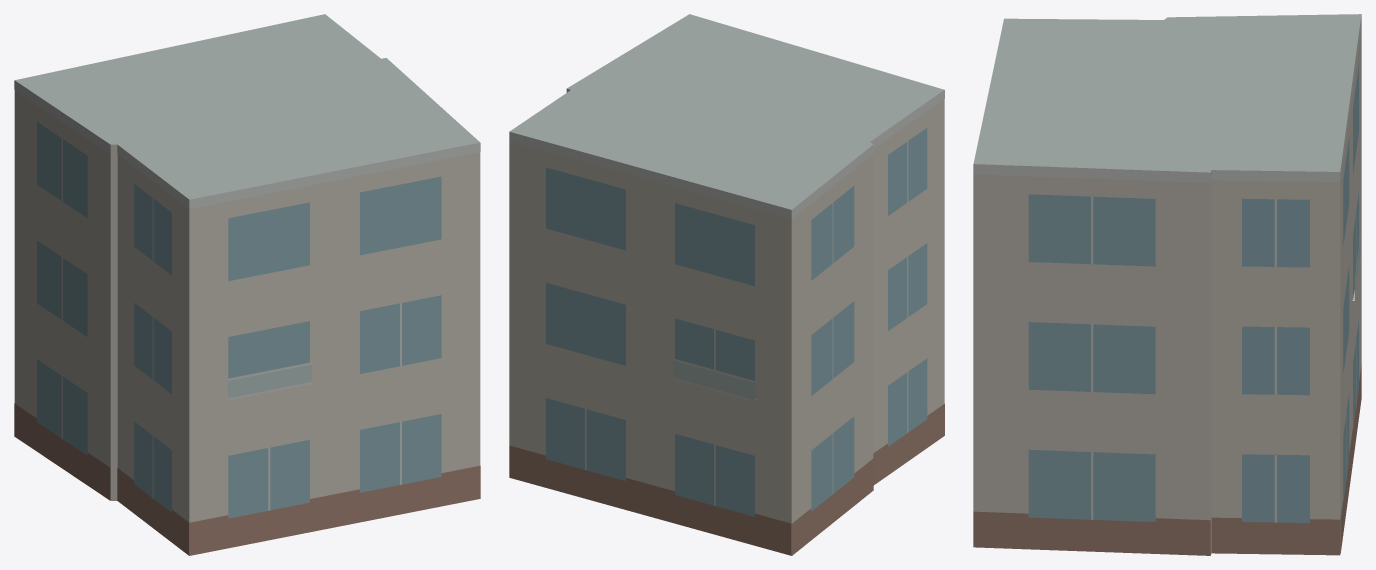
The model's file is survey-upis-32686181.glb.
The picture shows the model from 3 angles, left to right: view 1: azimuth 30°, elevation 25°; view 2: azimuth 150°, elevation 25°; view 3: azimuth 270°, elevation 25°; orthographic projection. The views are drawn at different scales.
Visible parts, largest first — view 1: survey-upis-32686181.tmp; view 2: survey-upis-32686181.tmp; view 3: survey-upis-32686181.tmp.
Boxes of the visible parts, x1,y1,x2,y2 form: survey-upis-32686181.tmp: (14,14,480,555); survey-upis-32686181.tmp: (509,14,944,555); survey-upis-32686181.tmp: (973,14,1361,555).
Size of the model in its own units: 8.08 by 9.1 by 8.36.
